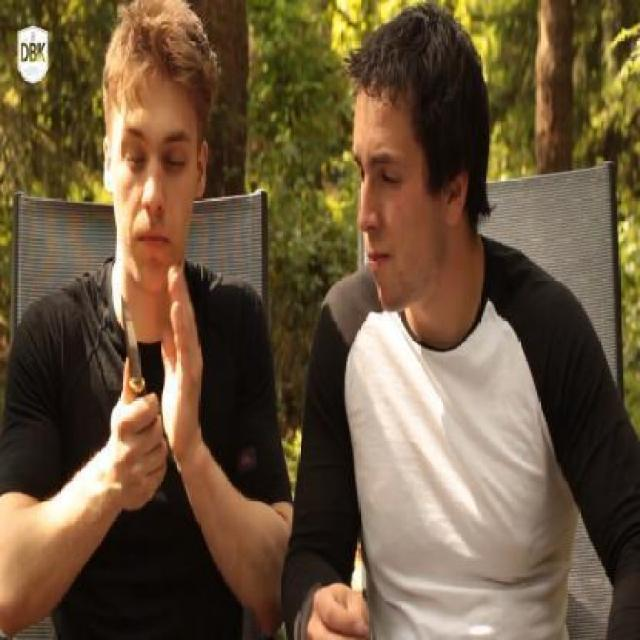-: (102, 271, 173, 468)
